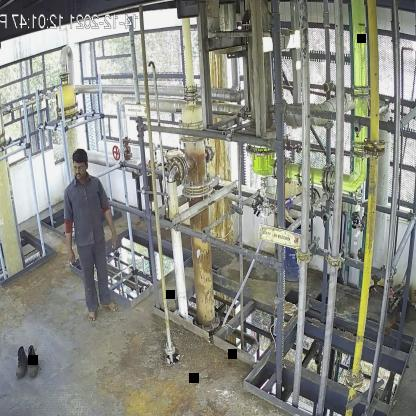no_shoes: (102, 301, 120, 312), (88, 310, 99, 324)
shoes: (24, 344, 40, 379), (14, 346, 28, 378)
